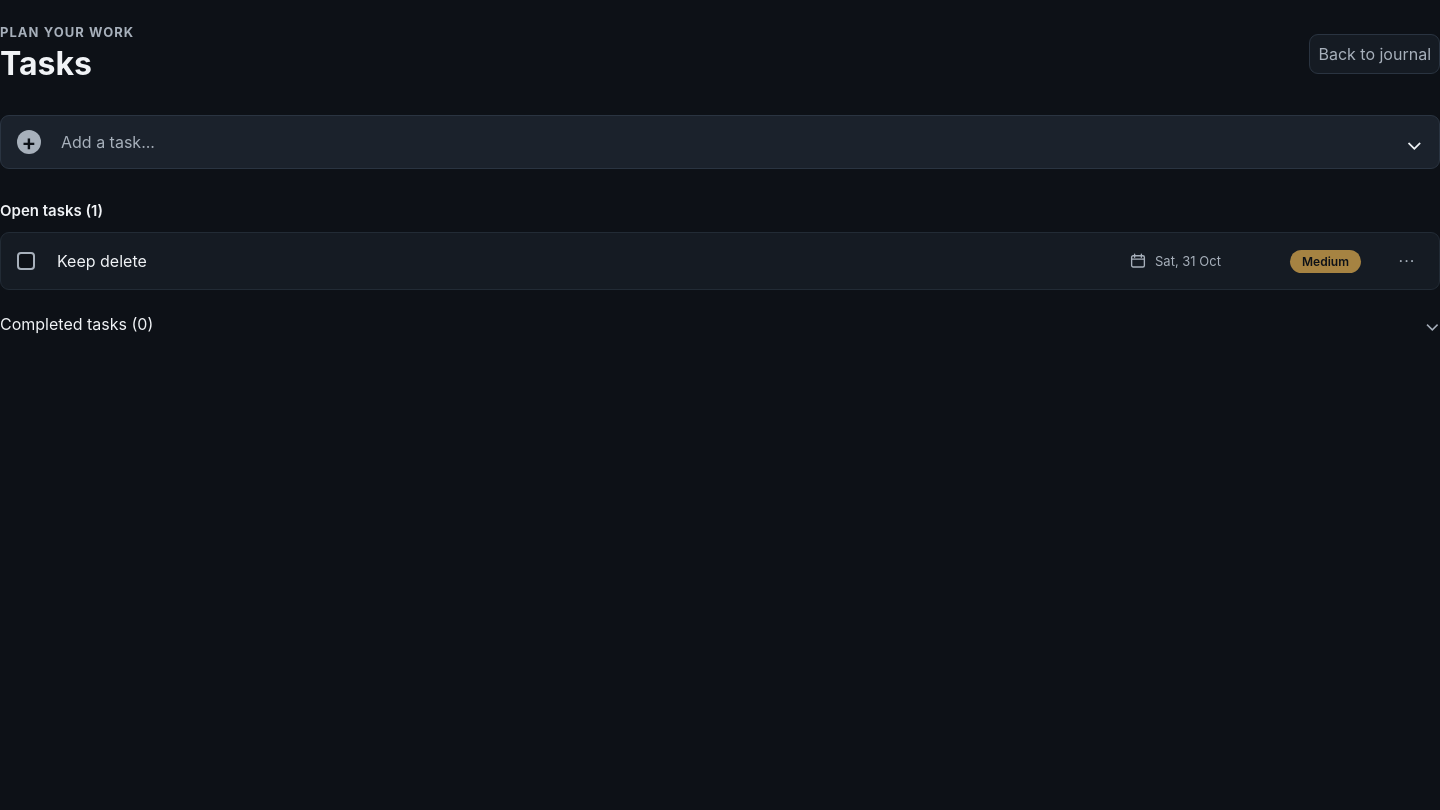
Test: TasksPage › keeps a task visible and reports a failed deletion
What coordinates should you click on to do the following:
click the button named "Task actions for Keep delete"
I would click on:
 (1407, 261)
Its box is [1391, 245, 1423, 277].
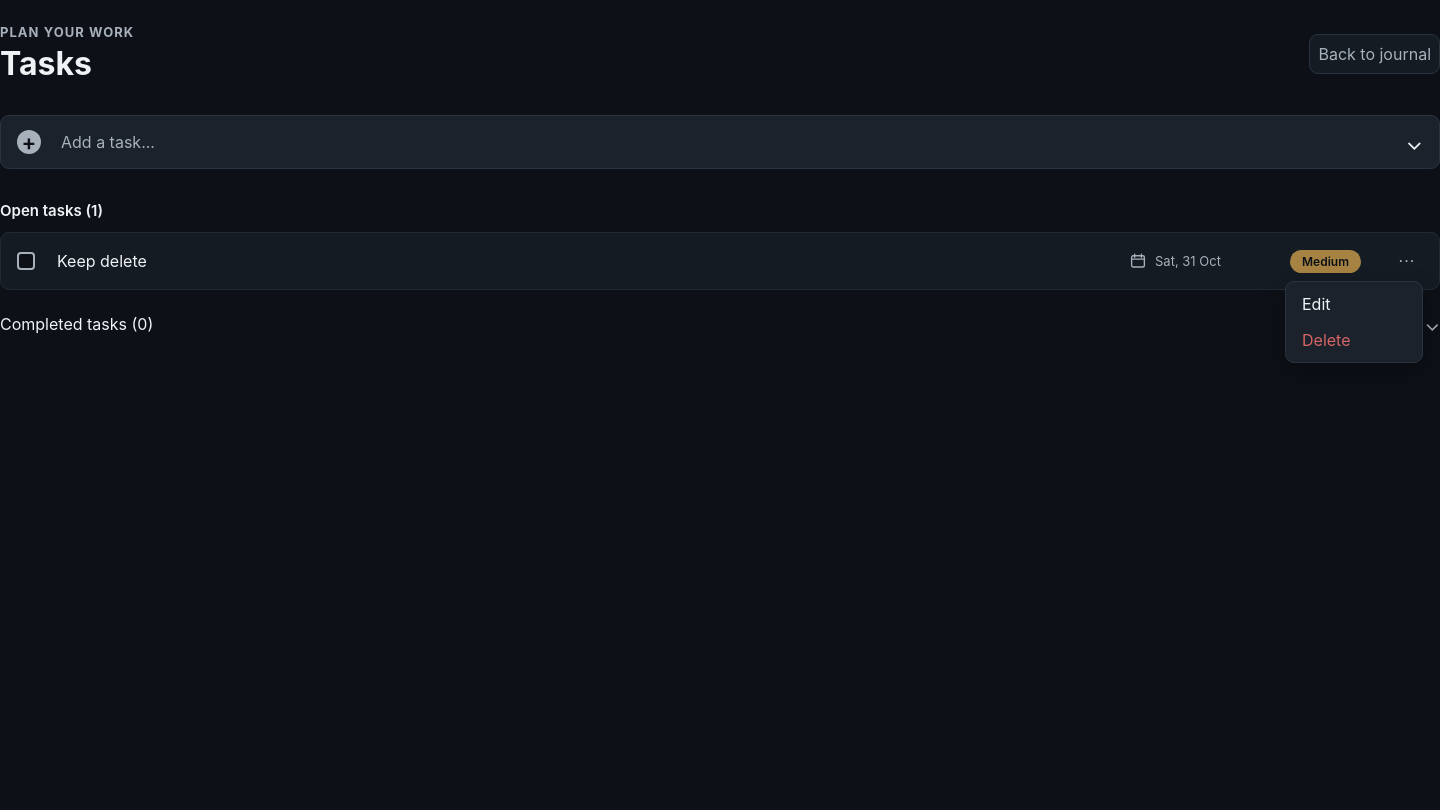
What coordinates should you click on to do the following:
click the menu item "Delete"
I would click on:
 (1354, 340)
Its box is [1290, 322, 1418, 358].
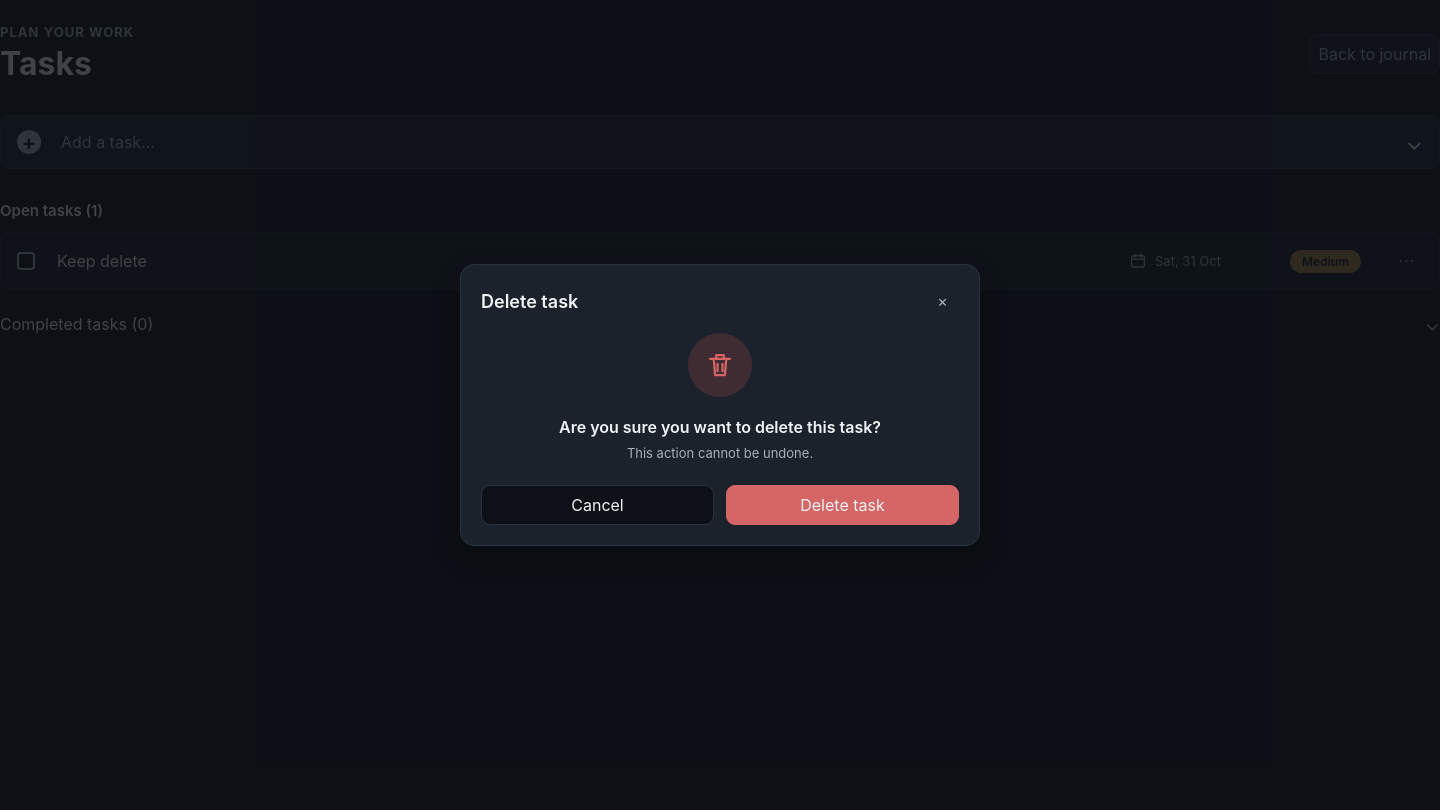
What coordinates should you click on to do the following:
click the button "Delete task"
I would click on:
 (842, 505)
Its box is [726, 485, 959, 525].
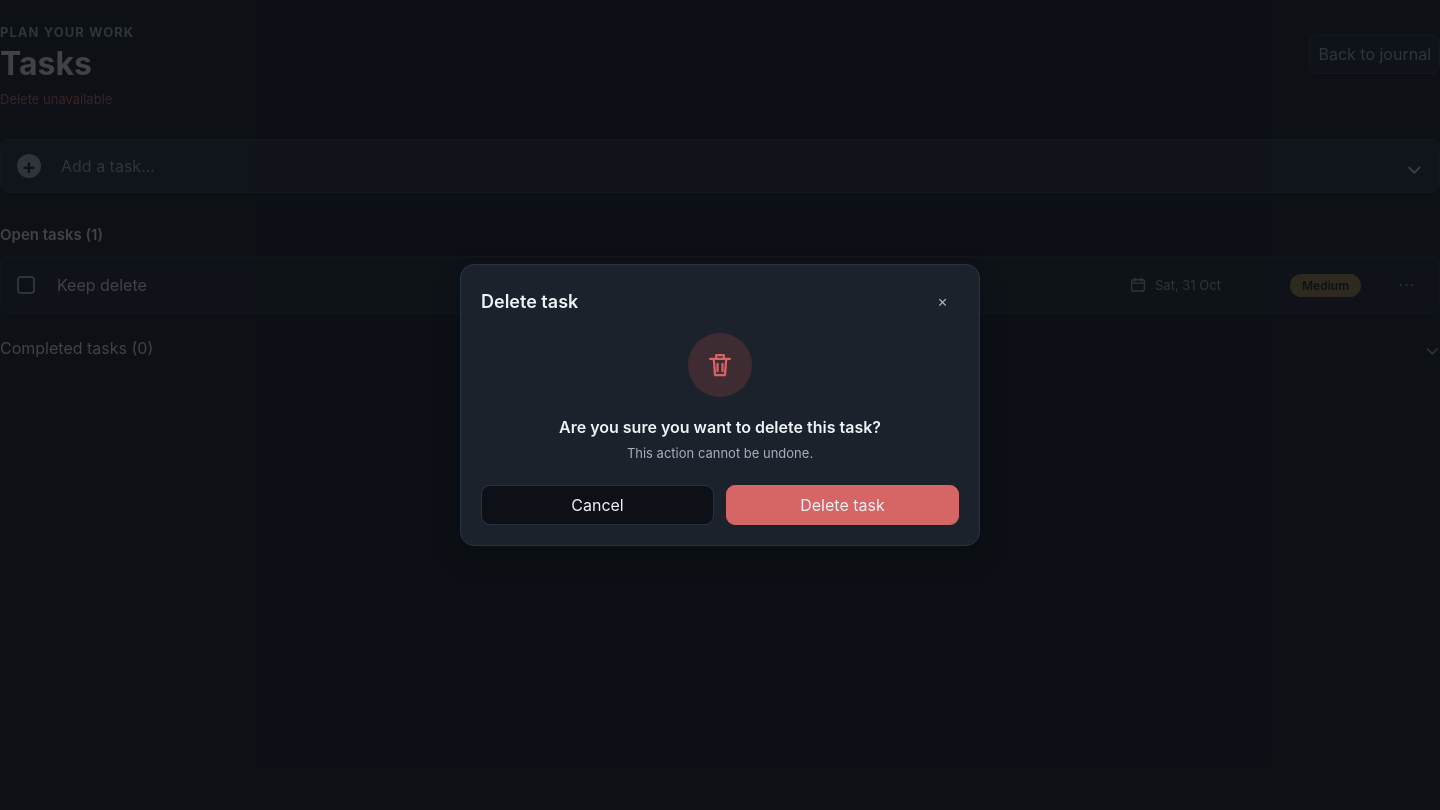
Check: the button "Keep delete" is shown, box [57, 271, 1113, 299]
Check: the message reads "Delete unavailable", box [0, 91, 112, 107]
